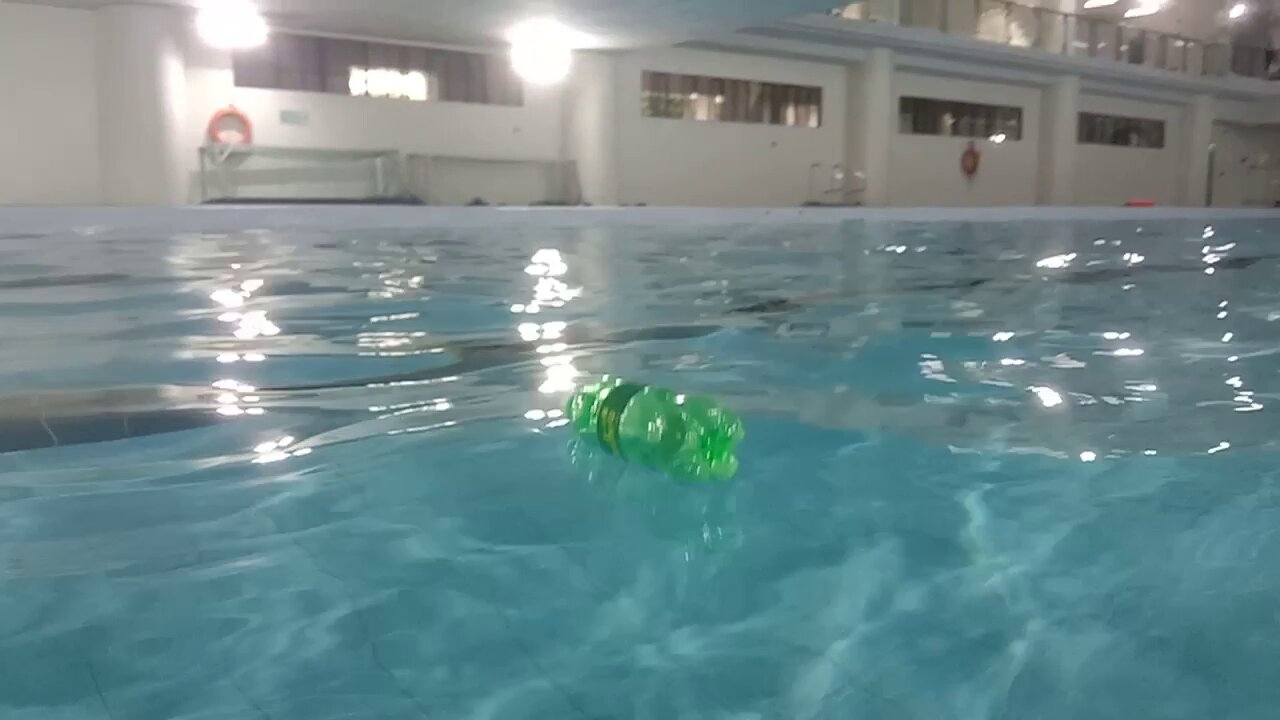plastic_bottle: (565, 378, 745, 481)
